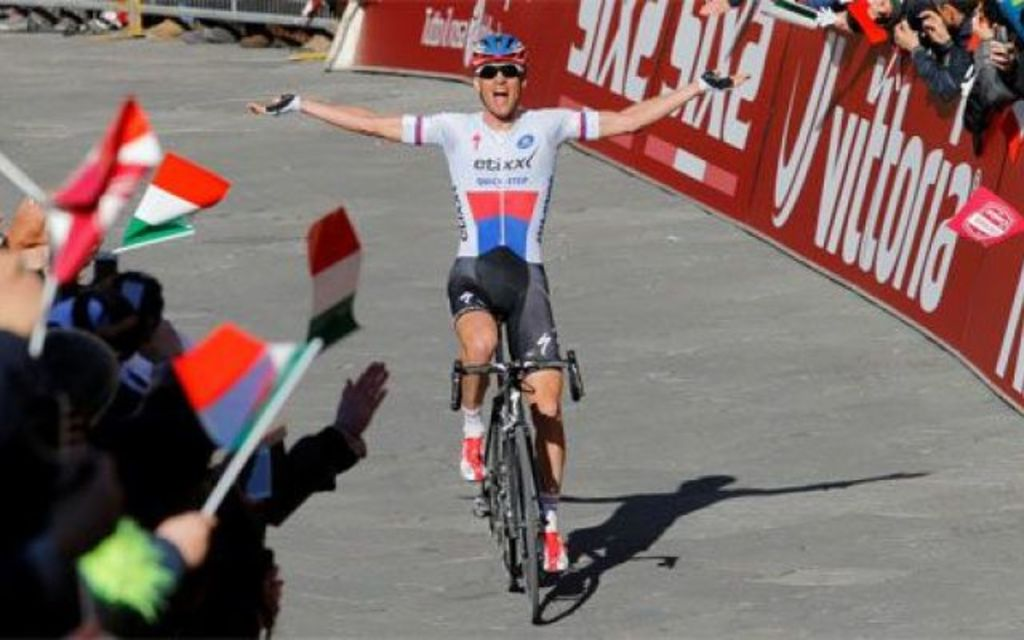Bike: (442, 306, 594, 625)
